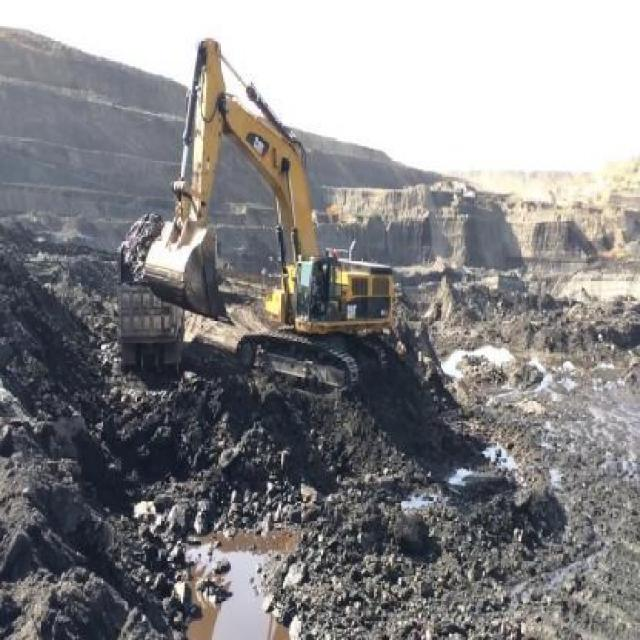Dump Truck: (114, 228, 183, 370)
Excavator: (148, 36, 395, 389)
